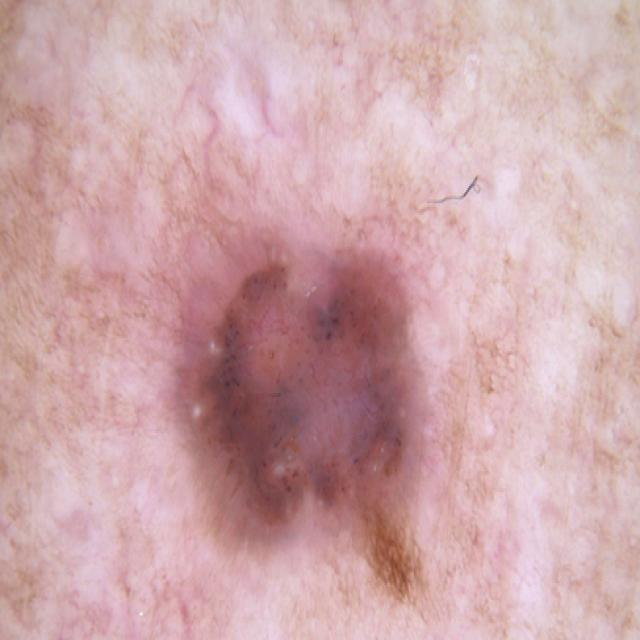Carcinoma: (130, 159, 562, 640)
